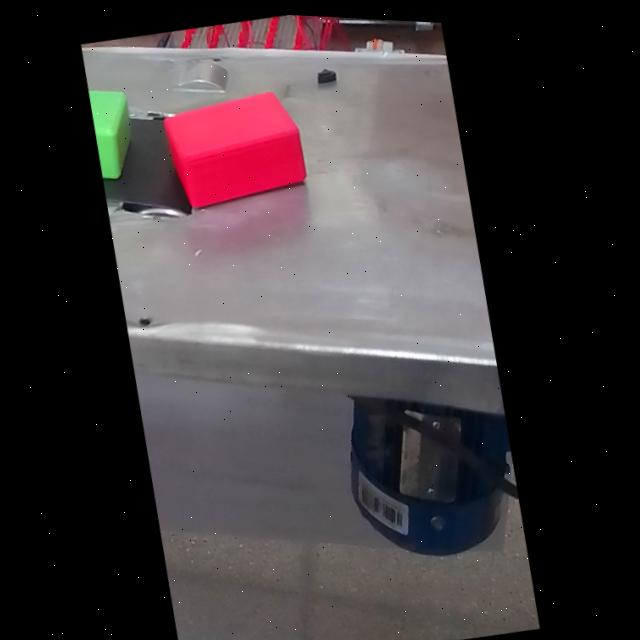greenBox: (84, 62, 152, 191)
redBox: (153, 74, 323, 227)
